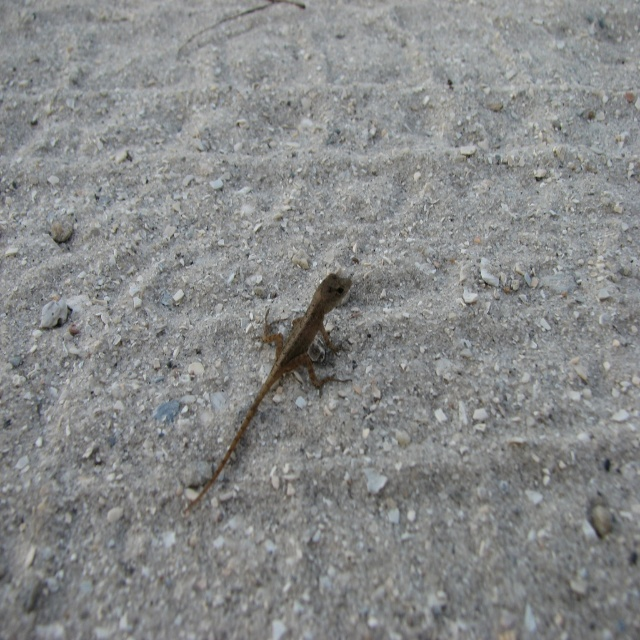Lizard: (184, 271, 352, 510)
